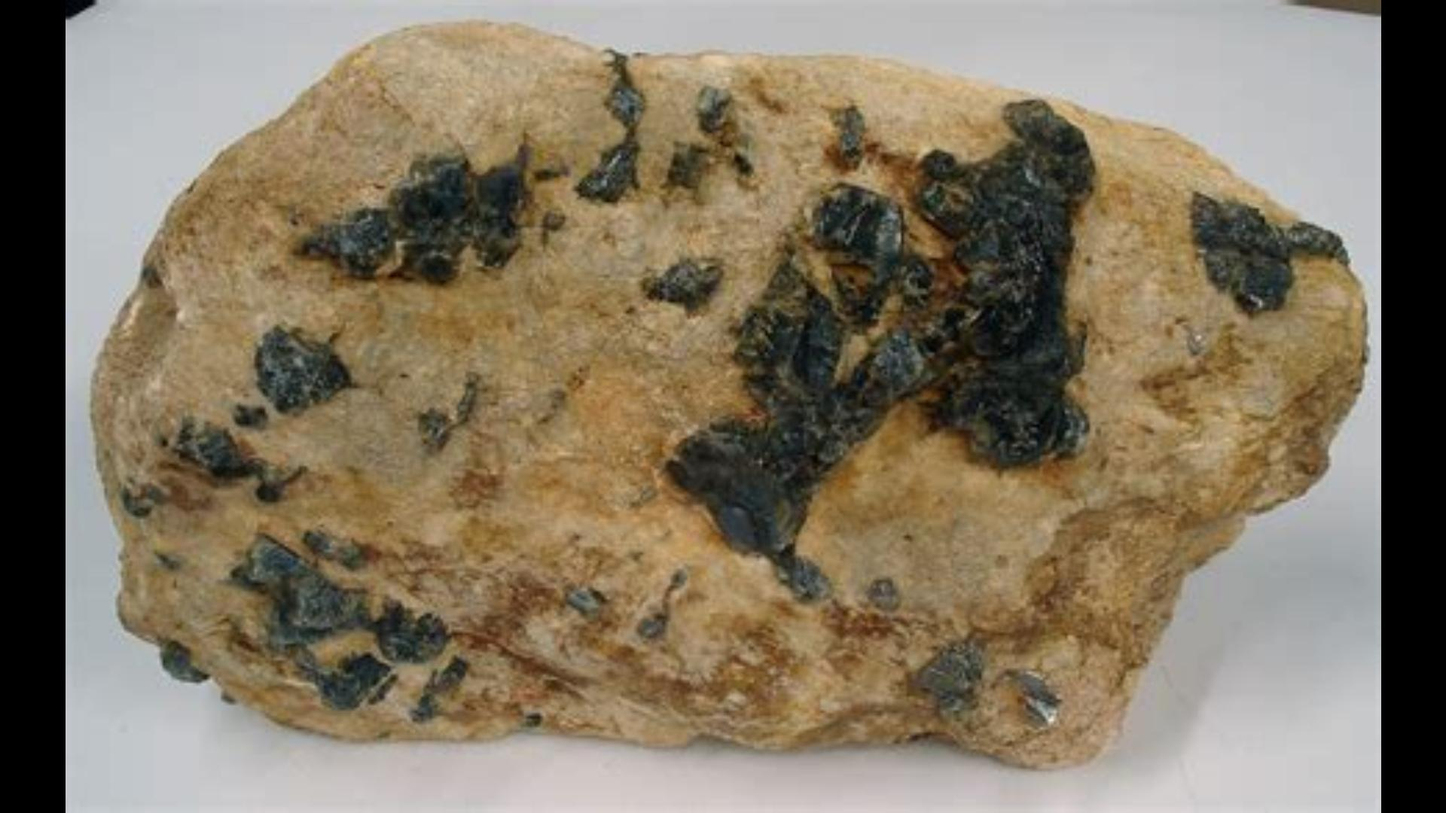rock: (93, 22, 1361, 766)
